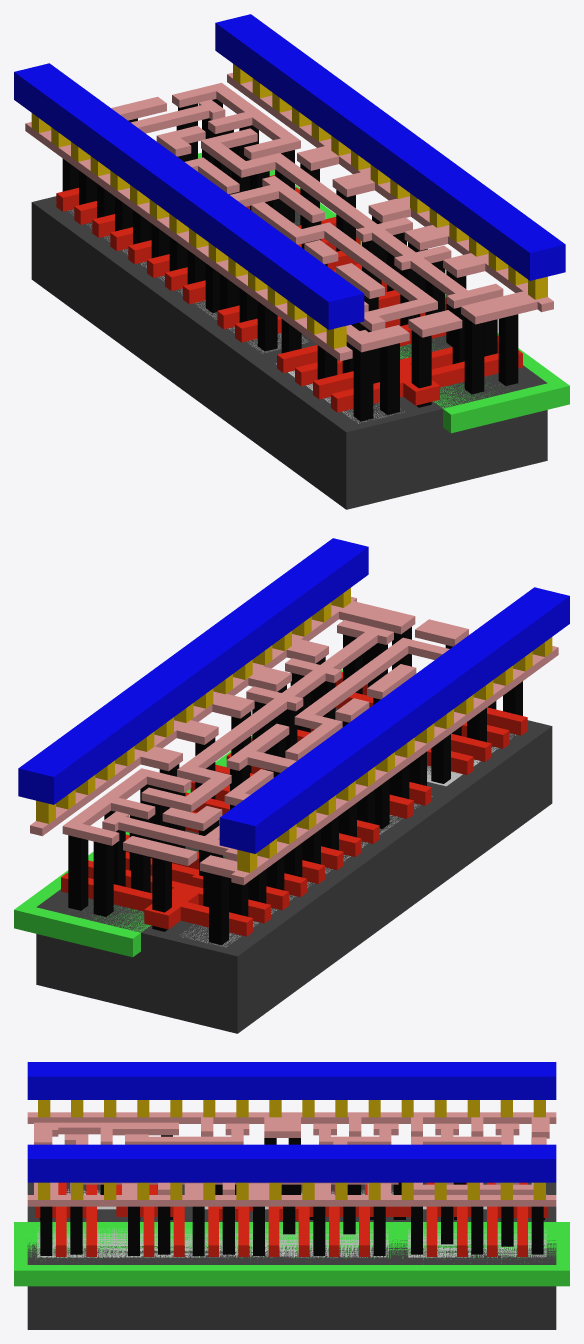
The model's file is sky130_fd_sc_hd__a311o_4.obj.
3 renders of one model, top to bottom at view 1: azimuth 30°, elevation 25°; view 2: azimuth 150°, elevation 25°; view 3: azimuth 270°, elevation 25°, orthographic. The views are drawn at different scales.
Visible parts, largest first — view 1: subs, metal1, li, licon, poly, mcon, nwell; view 2: subs, metal1, li, licon, poly, mcon, nwell, diff; view 3: metal1, subs, li, nwell, licon, poly, mcon, tap.
Boxes of the visible parts, <box> form: subs: <box>31,196,547,509</box>; metal1: <box>14,14,565,329</box>; li: <box>25,73,553,361</box>; licon: <box>62,99,518,421</box>; poly: <box>56,175,522,412</box>; mcon: <box>31,64,547,348</box>; nwell: <box>198,152,569,433</box>; subs: <box>36,708,552,1033</box>; metal1: <box>18,538,569,853</box>; li: <box>30,597,558,885</box>; licon: <box>68,627,522,945</box>; poly: <box>61,672,527,936</box>; mcon: <box>36,588,552,872</box>; nwell: <box>14,669,342,957</box>; diff: <box>183,733,515,947</box>; metal1: <box>27,1062,556,1182</box>; subs: <box>27,1182,556,1329</box>; li: <box>27,1112,556,1206</box>; nwell: <box>14,1222,569,1286</box>; licon: <box>39,1135,544,1255</box>; poly: <box>35,1182,548,1256</box>; mcon: <box>38,1100,545,1199</box>; tap: <box>37,1228,546,1257</box>.
Size of the model in its own units: 3.2 by 2.74 by 7.74.
